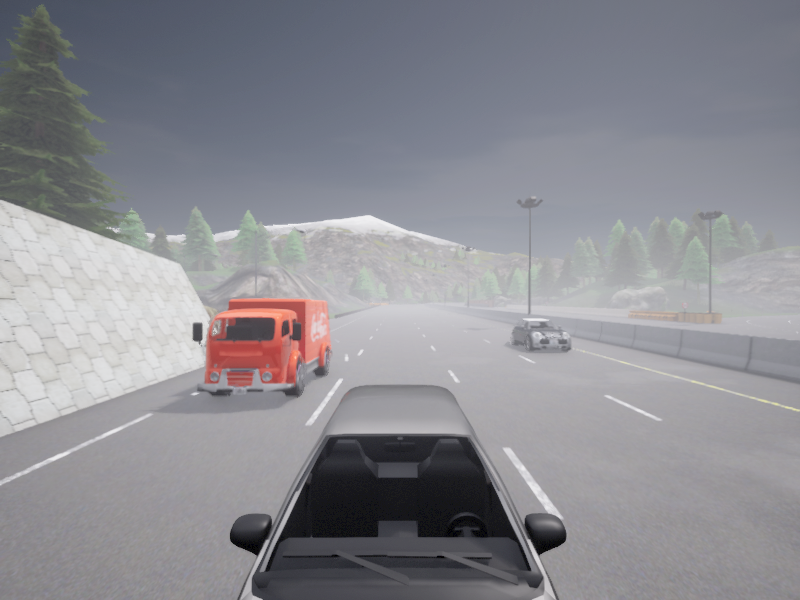vehicle: (230, 384, 566, 599), (193, 298, 332, 397), (511, 319, 571, 351)
